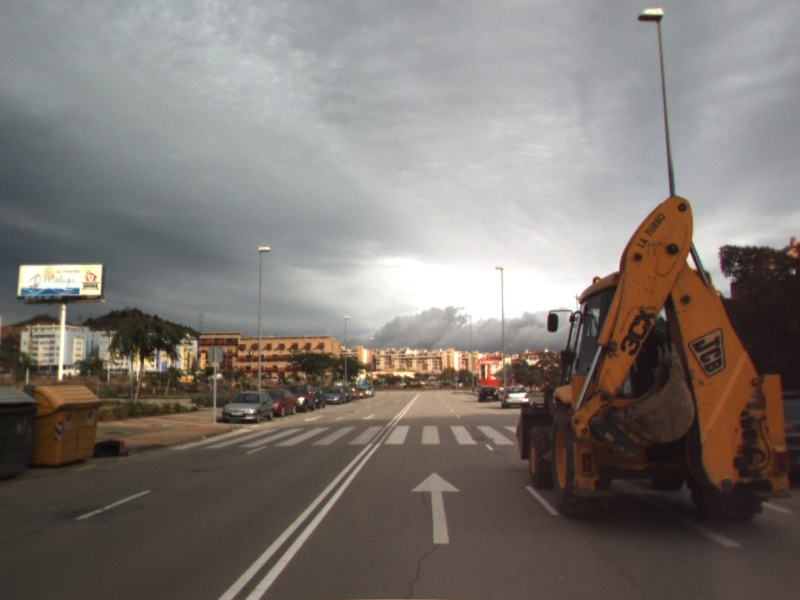STRAIGHT: (611, 477, 745, 549), (409, 470, 463, 546)
